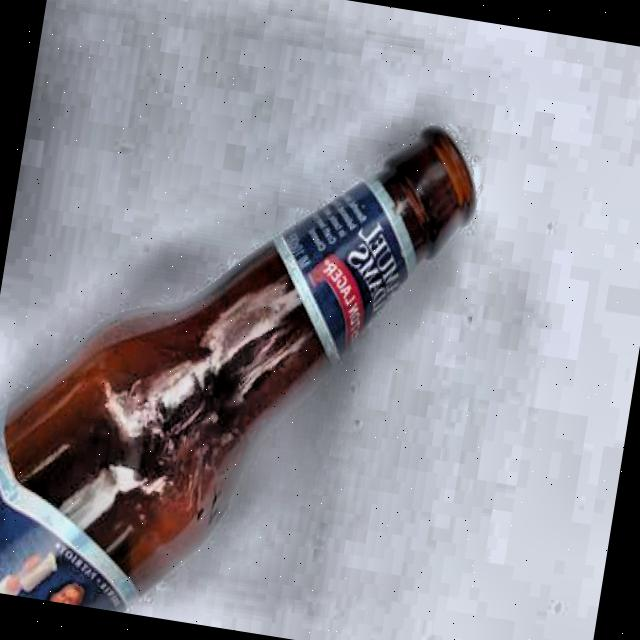glass: (0, 58, 493, 640)
